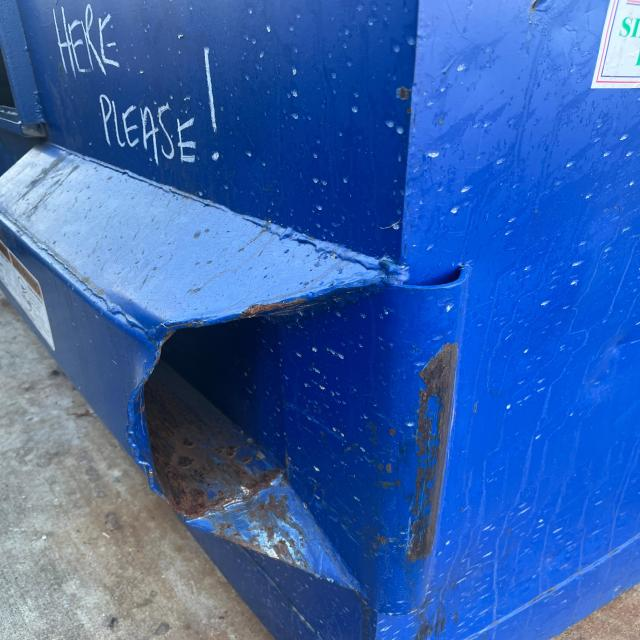Filiform Corrosion: (144, 363, 326, 569), (407, 349, 458, 561), (241, 297, 328, 319)
